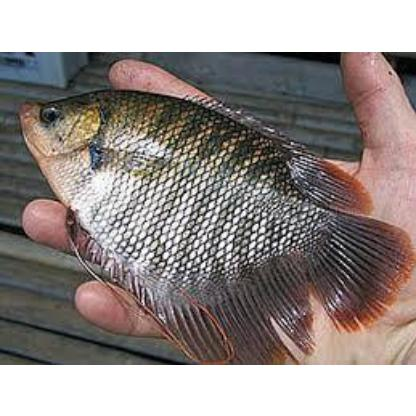gurame: (13, 86, 412, 364)
